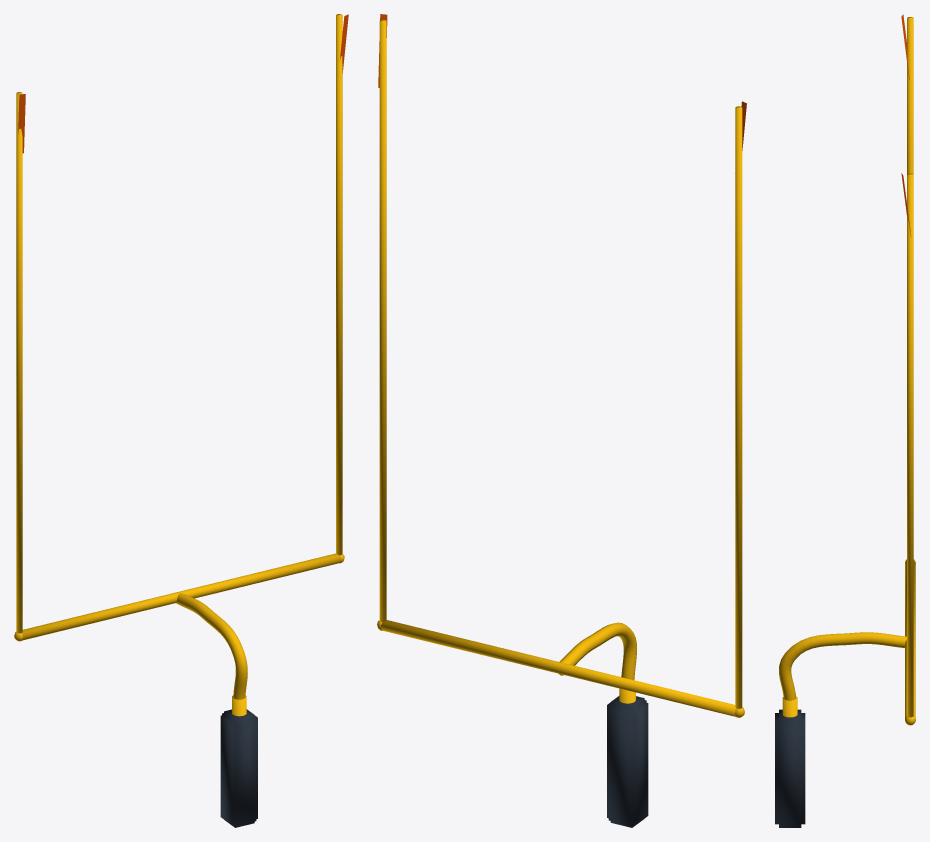
Rendered from goalpost_college.glb.
3 renders of one model, left to right at view 1: azimuth 30°, elevation 25°; view 2: azimuth 150°, elevation 25°; view 3: azimuth 270°, elevation 25°, orthographic. The views are drawn at different scales.
Visible parts, largest first — view 1: goalpost_college.001; view 2: goalpost_college.001; view 3: goalpost_college.001.
Part boxes in pixels (left/top/right/bottom): goalpost_college.001: left=14, top=14, right=348, bottom=827; goalpost_college.001: left=377, top=14, right=746, bottom=827; goalpost_college.001: left=775, top=14, right=915, bottom=827.
Size of the model in its own units: 5.83 by 12.23 by 2.14.
